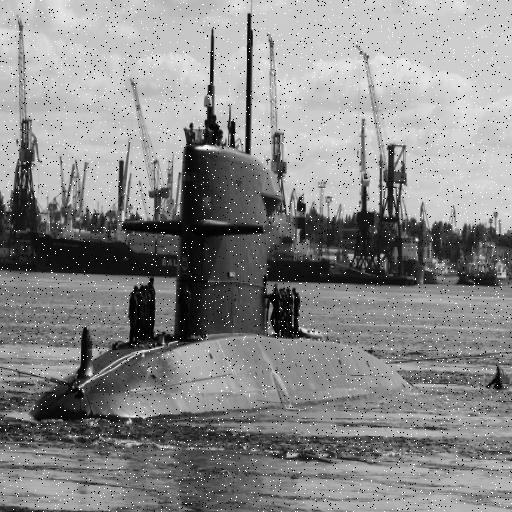submarine: (28, 6, 474, 424)
